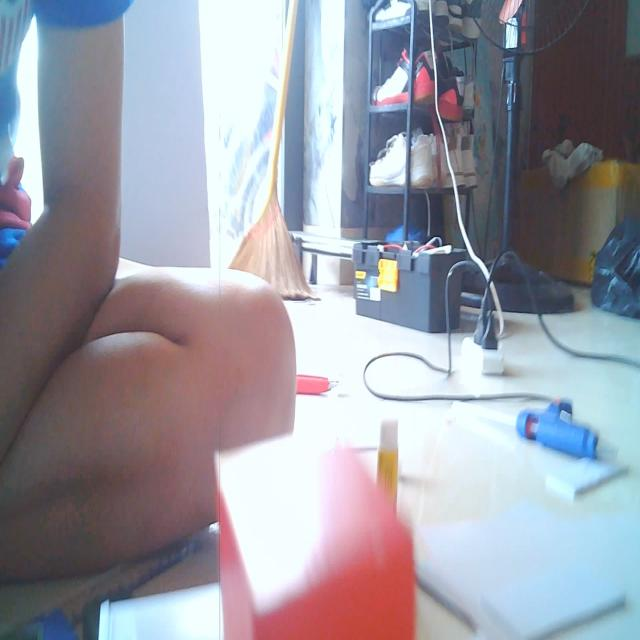red: (215, 430, 418, 640)
